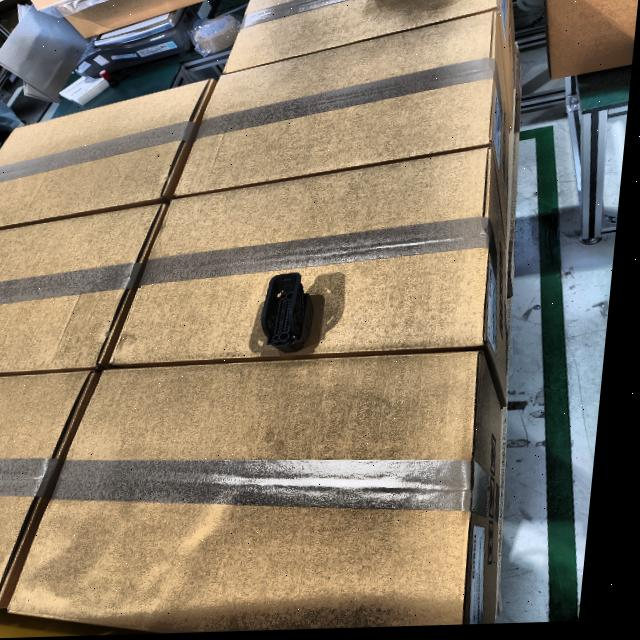P38: (268, 275, 320, 354)
